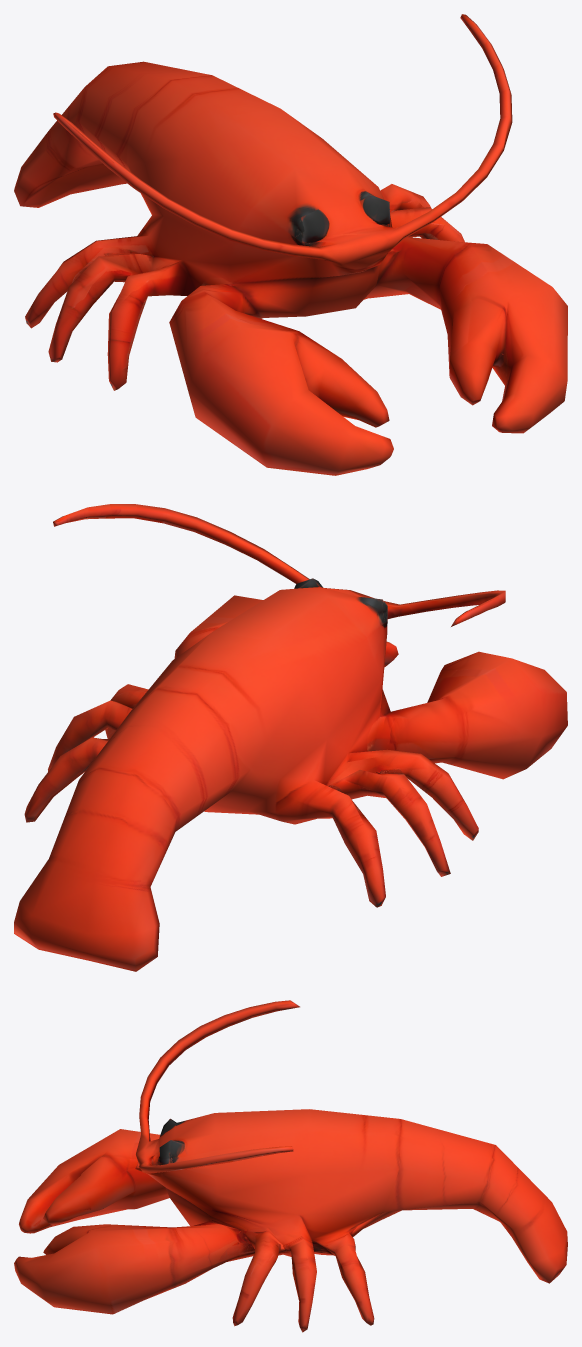
File: image_png_1121125931_texture.fbx
The picture shows the model from 3 angles, top to bottom: view 1: azimuth 30°, elevation 25°; view 2: azimuth 150°, elevation 25°; view 3: azimuth 270°, elevation 25°; orthographic projection. The views are drawn at different scales.
Parts seen in each view (by area): view 1: input; view 2: input; view 3: input.
Part boxes in pixels (x1,y1,x2,y2): input: [14, 14, 567, 475]; input: [14, 504, 567, 971]; input: [14, 1000, 567, 1332].
Bounding box in the file's own units: 120 × 73.07 × 192.
1 material, 1 textured.
